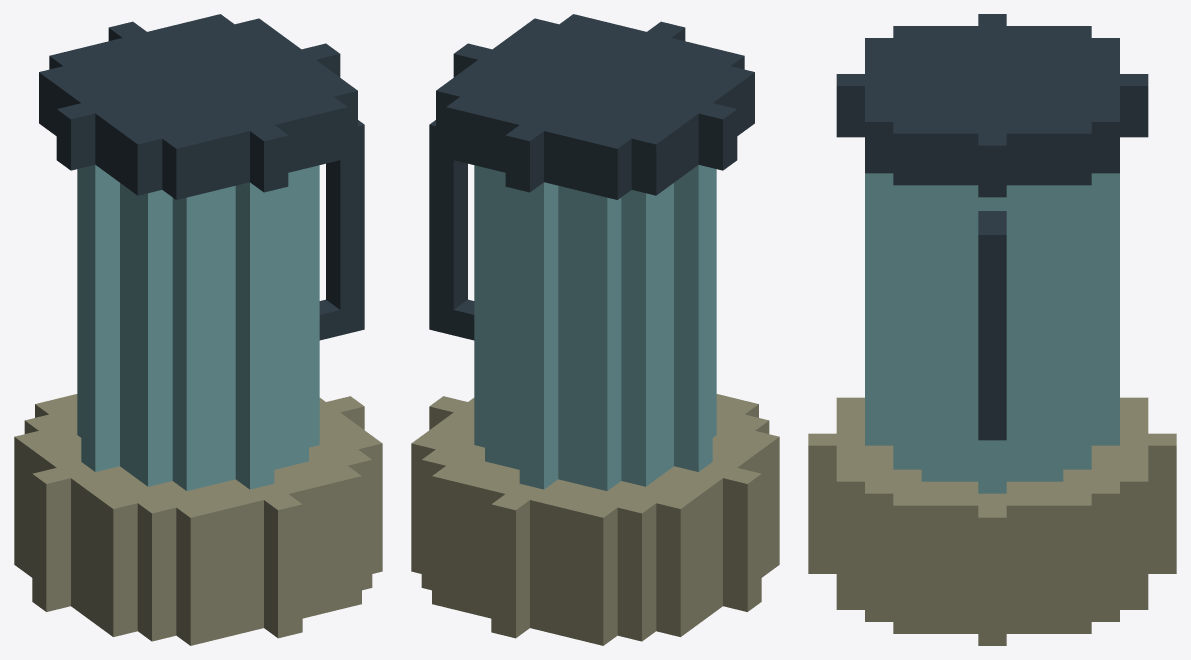
File: fitness-12.glb
The picture shows the model from 3 angles, left to right: view 1: azimuth 30°, elevation 25°; view 2: azimuth 150°, elevation 25°; view 3: azimuth 270°, elevation 25°; orthographic projection.
Visible parts, largest first — view 1: Protein blender; view 2: Protein blender; view 3: Protein blender.
Boxes of the visible parts, <box> form: Protein blender: <box>14,14,382,645</box>; Protein blender: <box>411,14,779,645</box>; Protein blender: <box>808,14,1176,645</box>.
Size of the model in its own units: 1.04 by 1.52 by 1.04.
